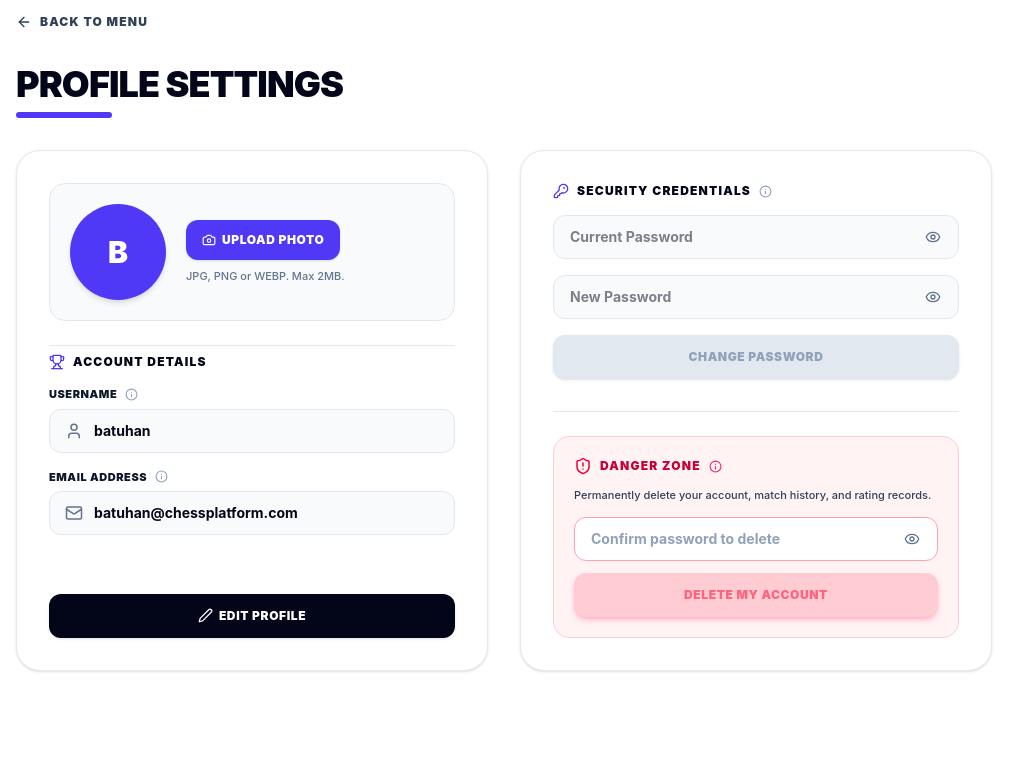
ProfileDashboard Component › displays error banner when password update fails on backend
Type "wrongOldPass" into the password field with placeholder "Current Password". click: (756, 237)
box: [553,215,959,259]
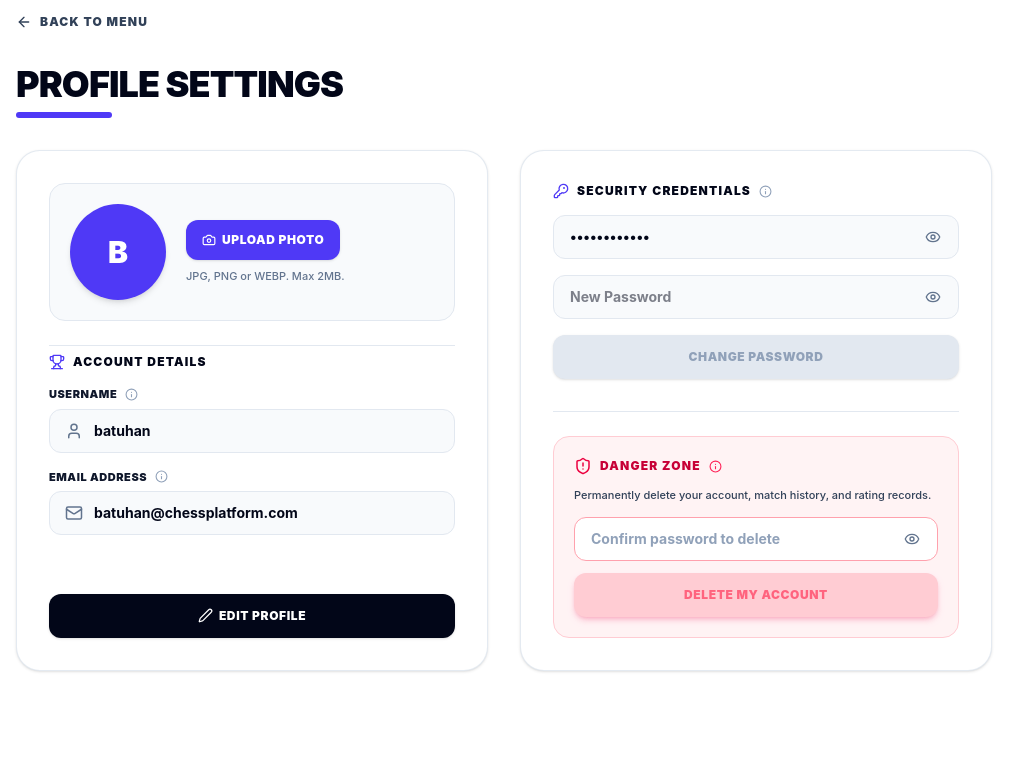
Type "newStrongPass1" into the password field with placeholder "New Password". click: (756, 297)
box: [553,275,959,319]
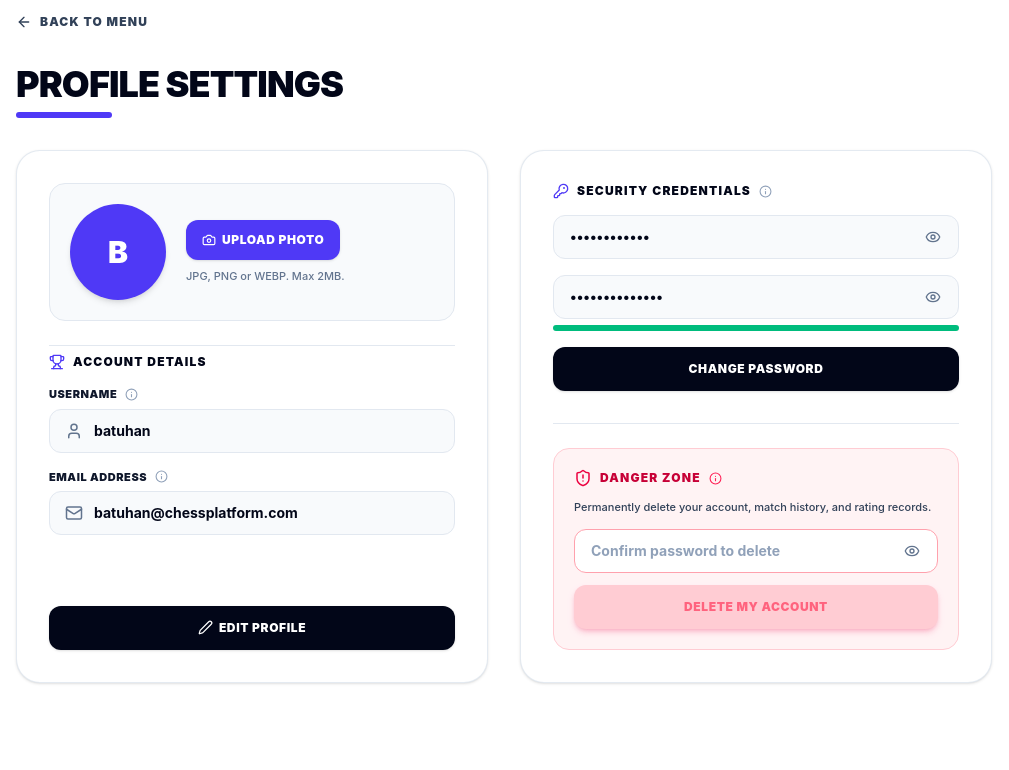
Click the button "Change Password". click: (756, 369)
box: [553,347,959,391]
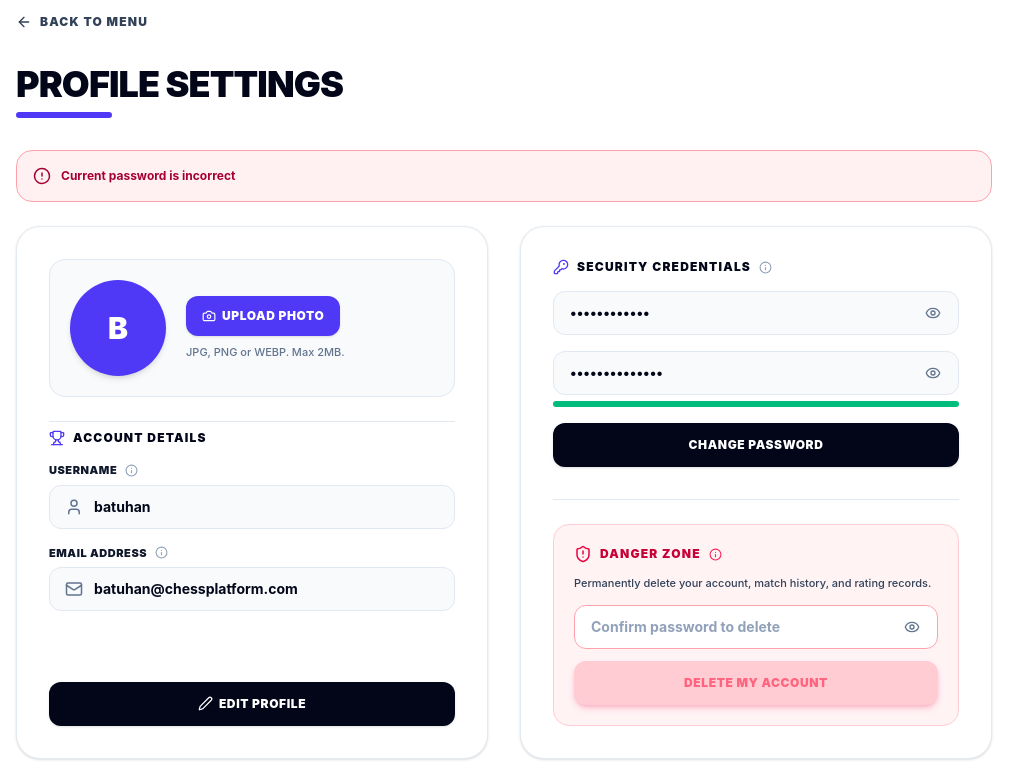
Expected: the text "Current password is incorrect" is shown, [61,168,235,184]
